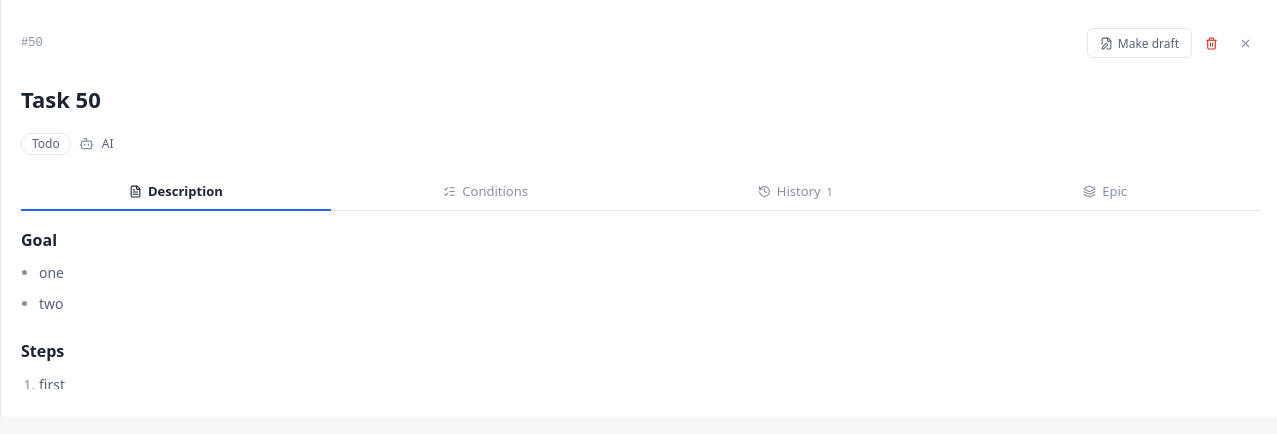
Test case: chapters of the description › keeps every chapter visible when the History tab is looked at and back
Click the tab "History 1" at (795, 192), box [640,173,950,211]
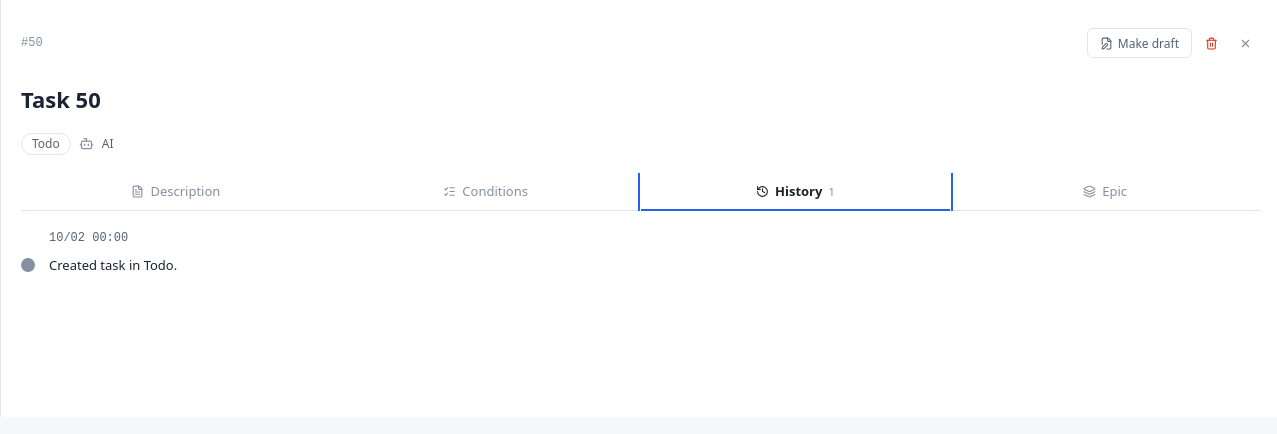
Click the tab "Description" at (176, 192), box [21,173,331,211]
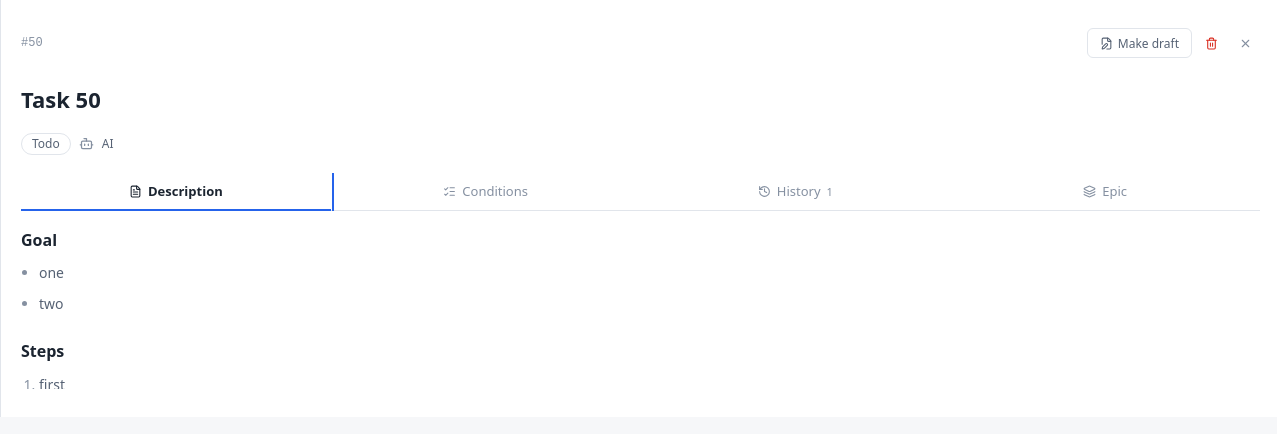
Expected: the list item "one" is shown, [39,263,64,282]
Expected: the heading "Goal" is shown, [21,229,57,251]
